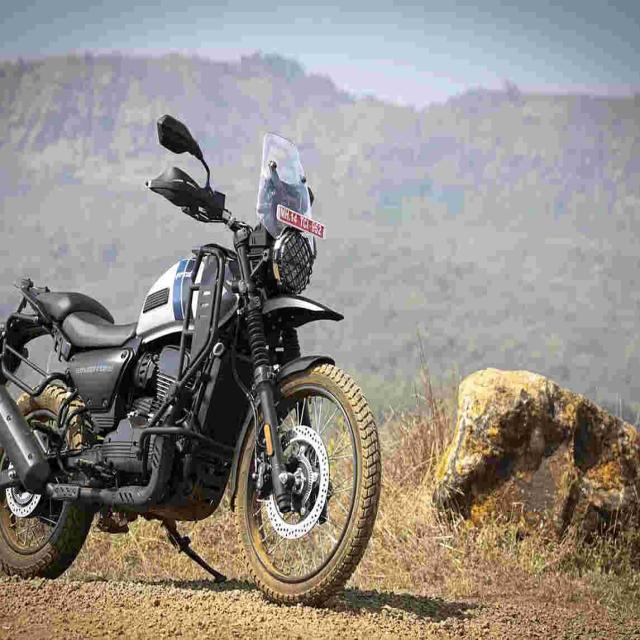motorcycle: (0, 115, 381, 603)
